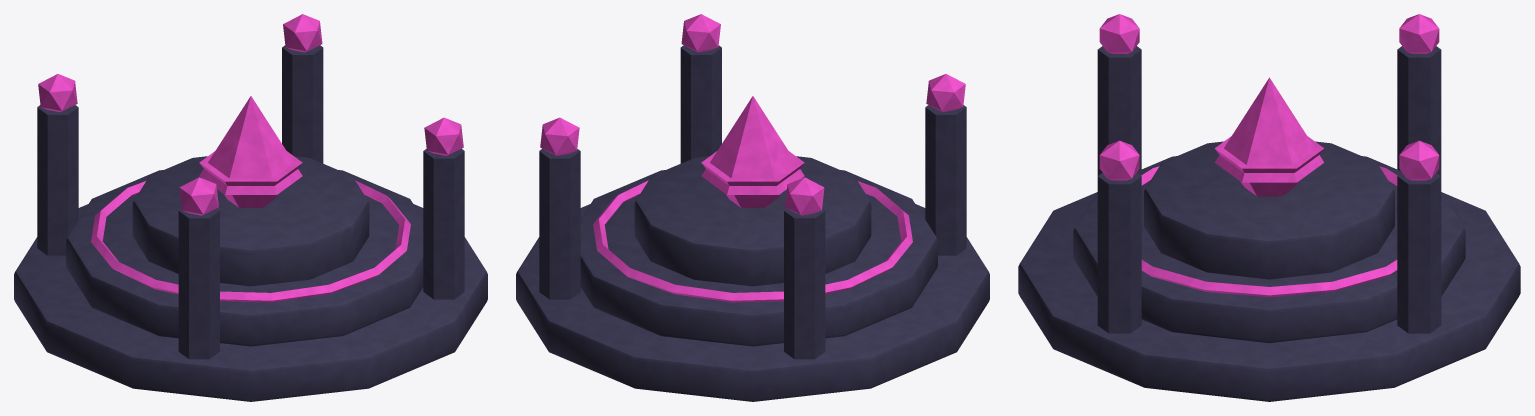
File: fusion_altar.fbx
The picture shows the model from 3 angles, left to right: view 1: azimuth 30°, elevation 25°; view 2: azimuth 150°, elevation 25°; view 3: azimuth 270°, elevation 25°; orthographic projection. The views are drawn at different scales.
Visible parts, largest first — view 1: Fusion_altar; view 2: Fusion_altar; view 3: Fusion_altar.
Boxes of the visible parts, x1,y1,x2,y2 form: Fusion_altar: [14, 14, 487, 401]; Fusion_altar: [516, 14, 989, 401]; Fusion_altar: [1018, 14, 1520, 401].
Size of the model in its own units: 4.27 by 2.07 by 4.27.
1 material, 1 textured.
